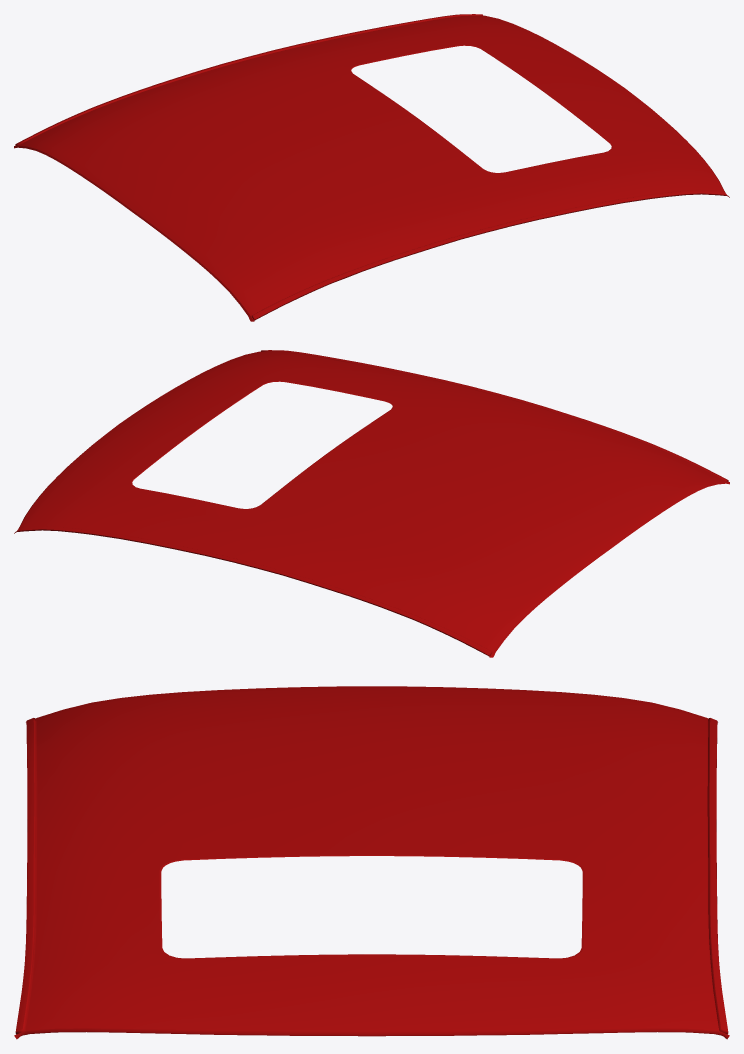
3 renders of one model, top to bottom at view 1: azimuth 30°, elevation 25°; view 2: azimuth 150°, elevation 25°; view 3: azimuth 270°, elevation 25°, orthographic. The views are drawn at different scales.
Visible parts, largest first — view 1: Y175_18_341B_C_1_DaS_Y175_18_341B_C, Y175_18_341B_C_1_DaS_Y175_18_341B_C_E; view 2: Y175_18_341B_C_1_DaS_Y175_18_341B_C, Y175_18_341B_C_1_DaS_Y175_18_341B_C_E; view 3: Y175_18_341B_C_1_DaS_Y175_18_341B_C, Y175_18_341B_C_1_DaS_Y175_18_341B_C_E.
Part boxes in pixels (x1,y1,x2,y2): Y175_18_341B_C_1_DaS_Y175_18_341B_C: (16, 14, 728, 321); Y175_18_341B_C_1_DaS_Y175_18_341B_C_E: (14, 14, 729, 321); Y175_18_341B_C_1_DaS_Y175_18_341B_C: (15, 350, 727, 657); Y175_18_341B_C_1_DaS_Y175_18_341B_C_E: (14, 350, 729, 657); Y175_18_341B_C_1_DaS_Y175_18_341B_C: (15, 686, 728, 1034); Y175_18_341B_C_1_DaS_Y175_18_341B_C_E: (14, 718, 729, 1039).
Bounding box in the file's own units: 145 × 13.23 × 126.
